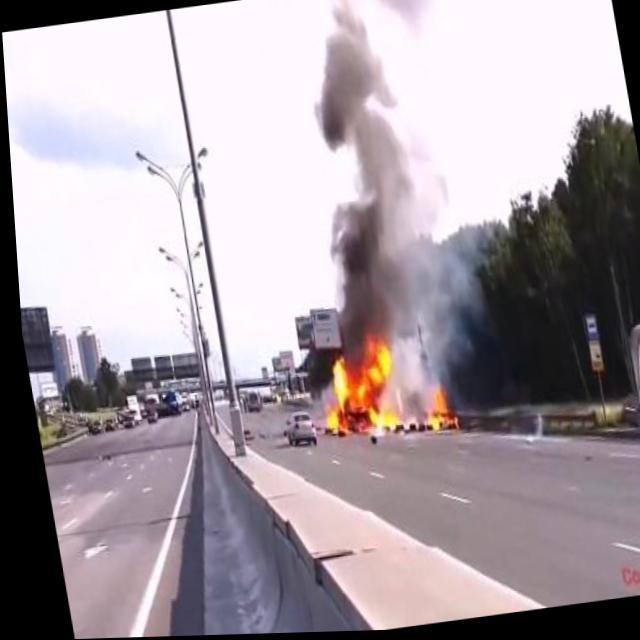fire: (307, 333, 406, 440), (410, 382, 460, 439)
